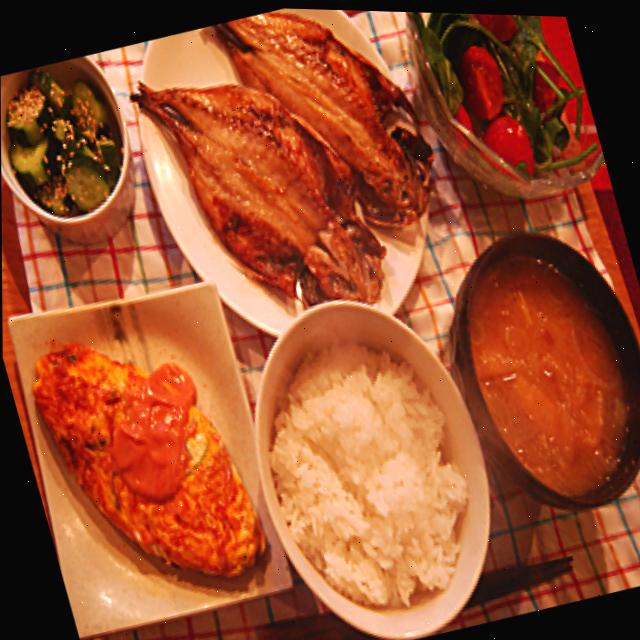熟制海鲜: (114, 3, 461, 312)
